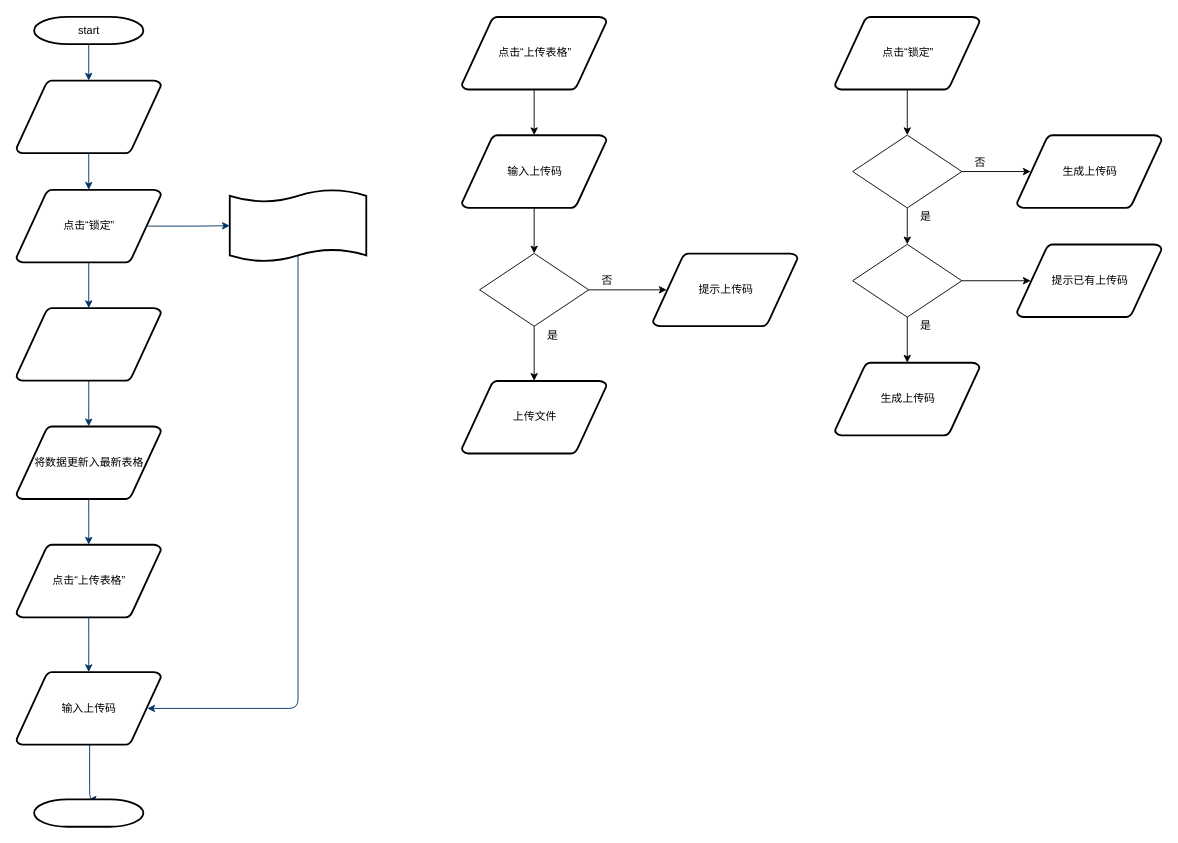
Some shapes in this 1178 by 843 pixel diagram are drawn without their labels. The box of each missing label's shape, as (x1, y1, x2, y2) in pixels:
end: (33, 798, 144, 827)
上传码是否过期？: (852, 243, 962, 317)
下载最新表格: (15, 307, 162, 381)
匹配？: (479, 253, 589, 326)
已有上传码？: (852, 134, 962, 208)
数据已准备: (15, 79, 162, 154)
获取上传码: (228, 187, 367, 263)
